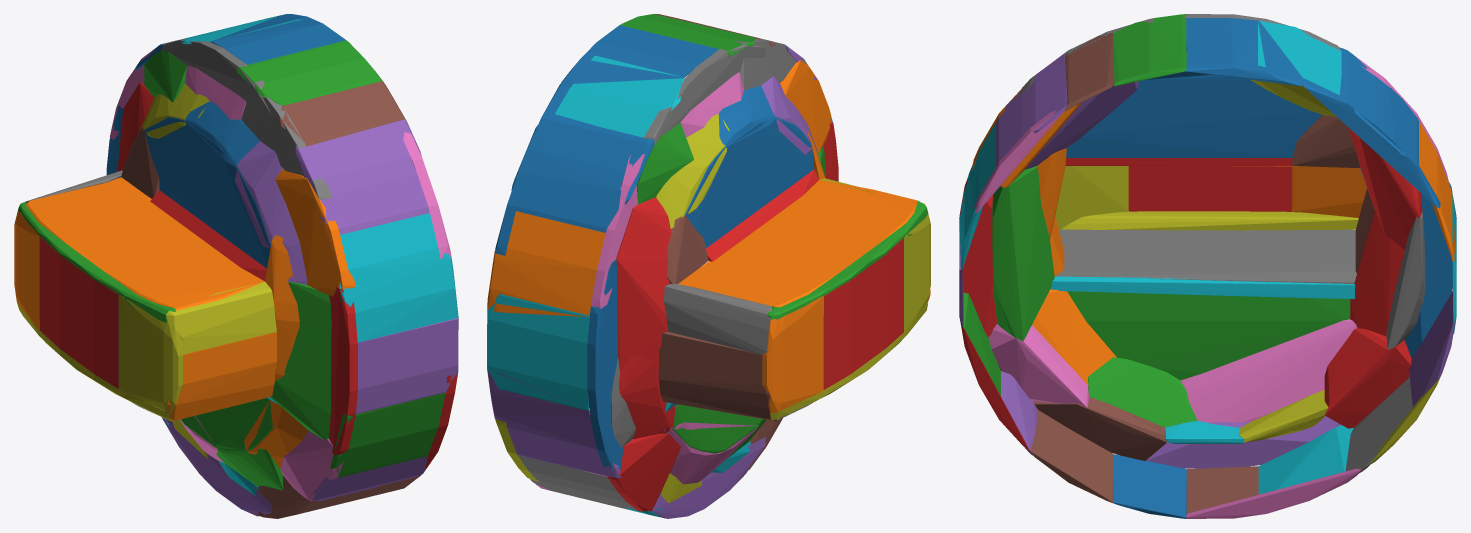
The model's file is Oven_Wheel_02_cvx.obj.
3 views of the same model, side by side, from view 1: azimuth 30°, elevation 25°; view 2: azimuth 150°, elevation 25°; view 3: azimuth 270°, elevation 25° (orthographic). The views are drawn at different scales.
Visible parts, largest first — view 1: scenes/apartment_0000_coacd/output/Unknown/Kitchen_Oven/Oven_Whe; view 2: scenes/apartment_0000_coacd/output/Unknown/Kitchen_Oven/Oven_Whe; view 3: scenes/apartment_0000_coacd/output/Unknown/Kitchen_Oven/Oven_Whe.
Part boxes in pixels (x1=…): scenes/apartment_0000_coacd/output/Unknown/Kitchen_Oven/Oven_Whe: x1=14, y1=14, x2=458, y2=518; scenes/apartment_0000_coacd/output/Unknown/Kitchen_Oven/Oven_Whe: x1=487, y1=14, x2=930, y2=518; scenes/apartment_0000_coacd/output/Unknown/Kitchen_Oven/Oven_Whe: x1=959, y1=14, x2=1456, y2=518.
Bounding box in the file's own units: 0.0475 × 0.0766 × 0.0765.
